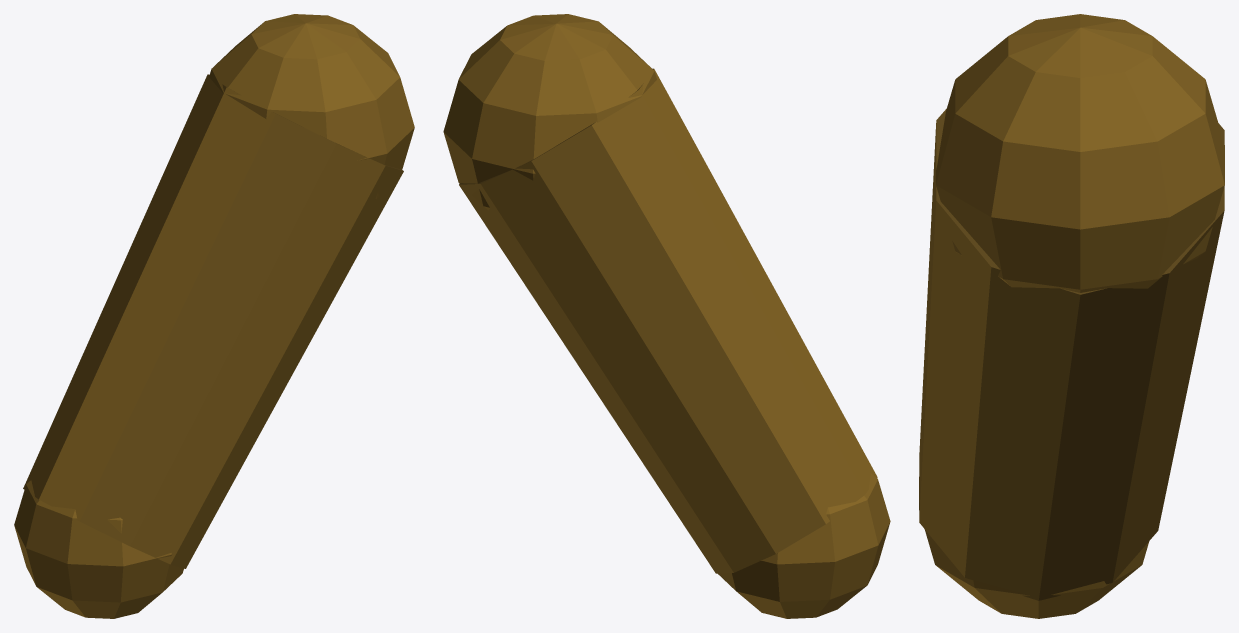
File: SM_triceratops_hind_r_Lower.fbx
3 views of the same model, side by side, from view 1: azimuth 30°, elevation 25°; view 2: azimuth 150°, elevation 25°; view 3: azimuth 270°, elevation 25° (orthographic). The views are drawn at different scales.
Parts seen in each view (by area): view 1: SM_triceratops_hind_r_Lower export; view 2: SM_triceratops_hind_r_Lower export; view 3: SM_triceratops_hind_r_Lower export.
Part boxes in pixels (x1,y1,x2,y2): SM_triceratops_hind_r_Lower export: (14, 14, 414, 618); SM_triceratops_hind_r_Lower export: (443, 14, 890, 618); SM_triceratops_hind_r_Lower export: (919, 14, 1224, 618).
Size of the model in its own units: 144 by 70.48 by 185.
